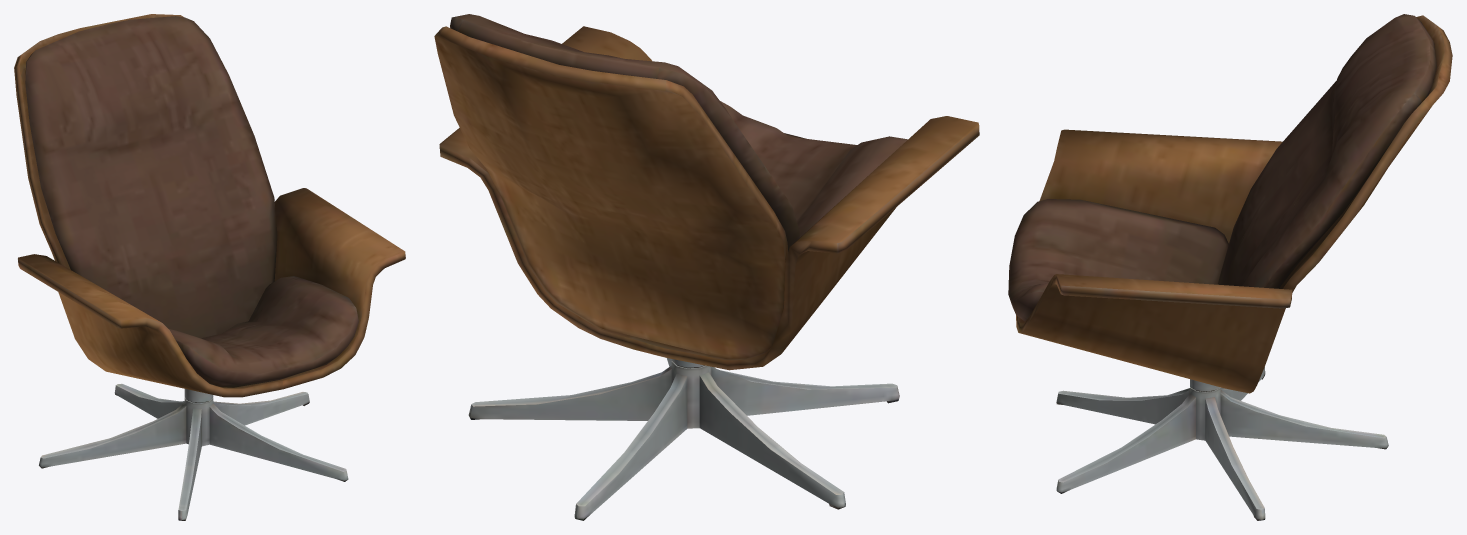
Rendered from mid_century_lounge_chair.glb.
3 renders of one model, left to right at view 1: azimuth 30°, elevation 25°; view 2: azimuth 150°, elevation 25°; view 3: azimuth 270°, elevation 25°, orthographic. The views are drawn at different scales.
Parts seen in each view (by area): view 1: mid_century_lounge_chair; view 2: mid_century_lounge_chair; view 3: mid_century_lounge_chair.
Boxes of the visible parts, box(x1,y1,x2,y2) form: mid_century_lounge_chair: box(14, 14, 405, 520); mid_century_lounge_chair: box(434, 14, 979, 520); mid_century_lounge_chair: box(1008, 14, 1452, 520).
Size of the model in its own units: 1.01 by 1.17 by 1.19.
1 material, 1 textured.
